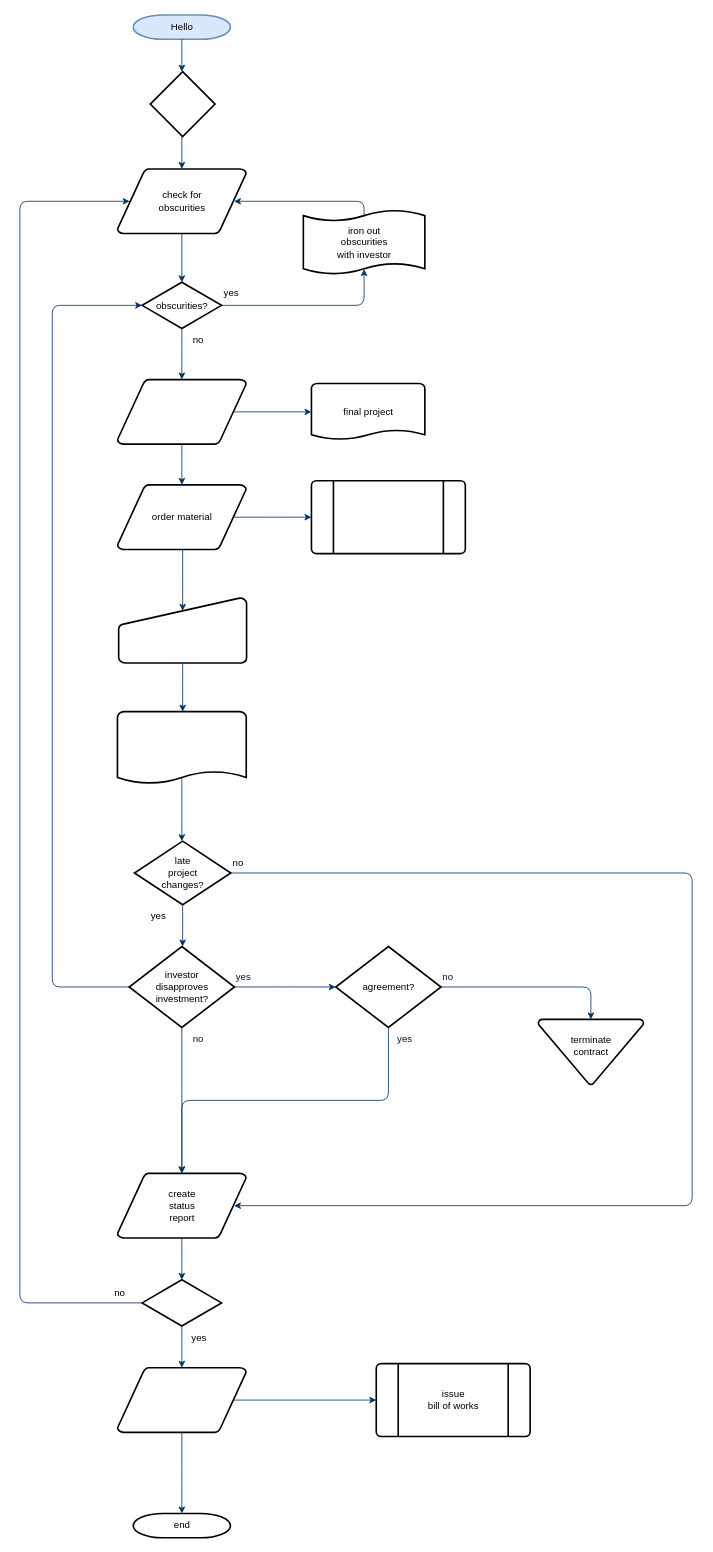
Some shapes in this 713 by 1552 pixel diagram are drawn without their labels. The centre of each missing label's shape, as x and y in pixels:
"create final report" goes at (x=181, y=1399).
"create Gantt diagram" goes at (x=181, y=747).
"create material specification" goes at (x=181, y=411).
"material balance" goes at (x=388, y=517).
"organize workforce" goes at (x=182, y=630).
"project complete?" goes at (x=181, y=1302).
